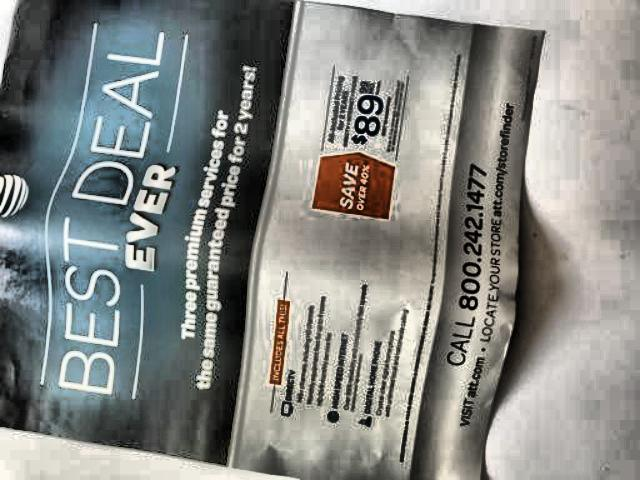Paper: (0, 0, 551, 480)
